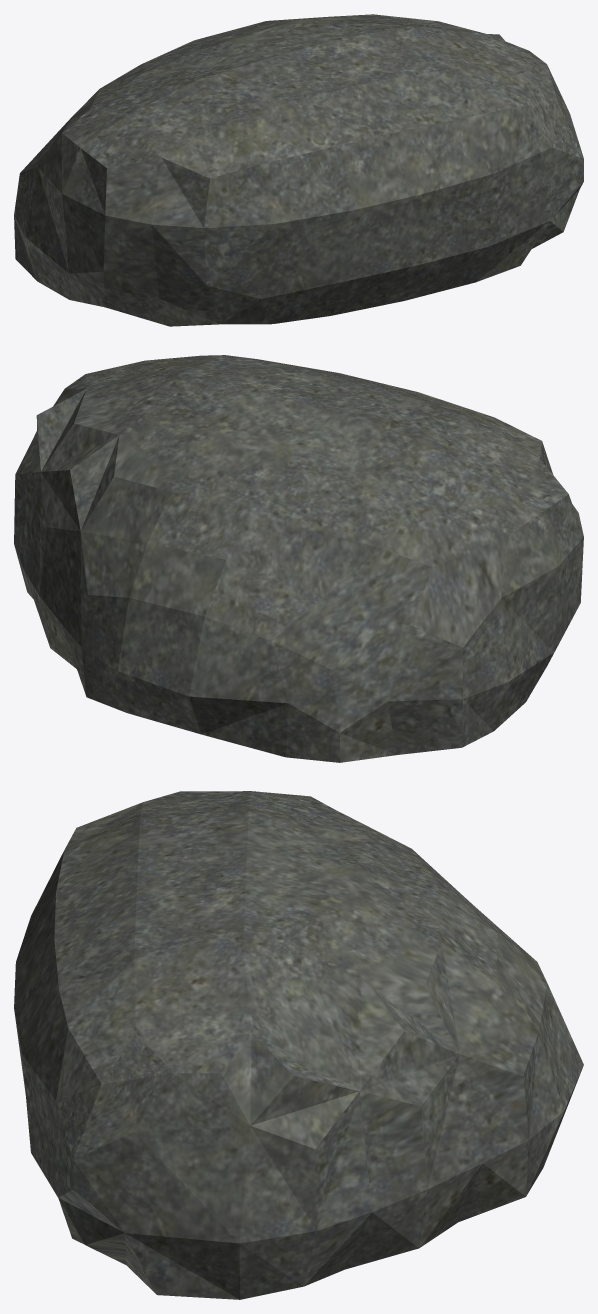
Rendered from rock2.obj.
3 views of the same model, one above another, from view 1: azimuth 30°, elevation 25°; view 2: azimuth 150°, elevation 25°; view 3: azimuth 270°, elevation 25° (orthographic). The views are drawn at different scales.
Parts seen in each view (by area): view 1: Rock02v3_Rock02.002; view 2: Rock02v3_Rock02.002; view 3: Rock02v3_Rock02.002.
Part boxes in pixels (x1,y1,x2,y2): Rock02v3_Rock02.002: (14,14,583,326); Rock02v3_Rock02.002: (14,355,583,762); Rock02v3_Rock02.002: (14,791,583,1299).
Bounding box in the file's own units: 68.97 × 30.68 × 53.41.
1 material, 1 textured.
